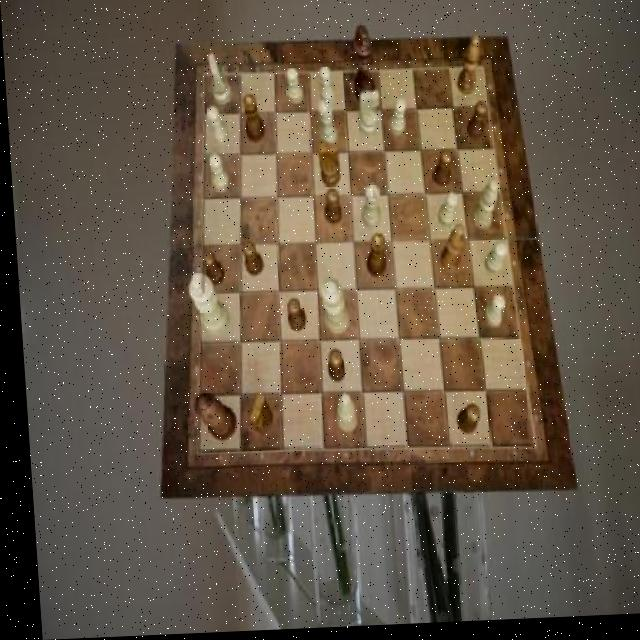bishop: (452, 40, 480, 101), (433, 227, 463, 277)
black-bishop: (349, 27, 374, 108)
black-king: (315, 144, 339, 190), (242, 396, 268, 437)
black-knight: (463, 105, 487, 144), (449, 407, 475, 439), (429, 154, 451, 191), (198, 252, 220, 287), (238, 242, 259, 277), (282, 301, 303, 335), (320, 192, 339, 228), (321, 352, 341, 386)
black-pawn: (188, 393, 232, 445)
black-queen: (239, 96, 262, 145), (361, 236, 383, 281)
black-rook: (466, 185, 496, 235), (328, 396, 351, 437)
white-bishop: (183, 271, 224, 338)
white-king: (206, 55, 231, 107), (354, 93, 379, 140)
white-knight: (205, 108, 227, 149), (433, 195, 456, 231), (480, 248, 505, 281), (479, 299, 503, 333), (207, 156, 228, 194), (387, 101, 406, 140), (317, 68, 335, 107), (284, 70, 302, 108)
white-pawn: (315, 279, 346, 338)
white-queen: (356, 185, 379, 232), (314, 102, 336, 150)
